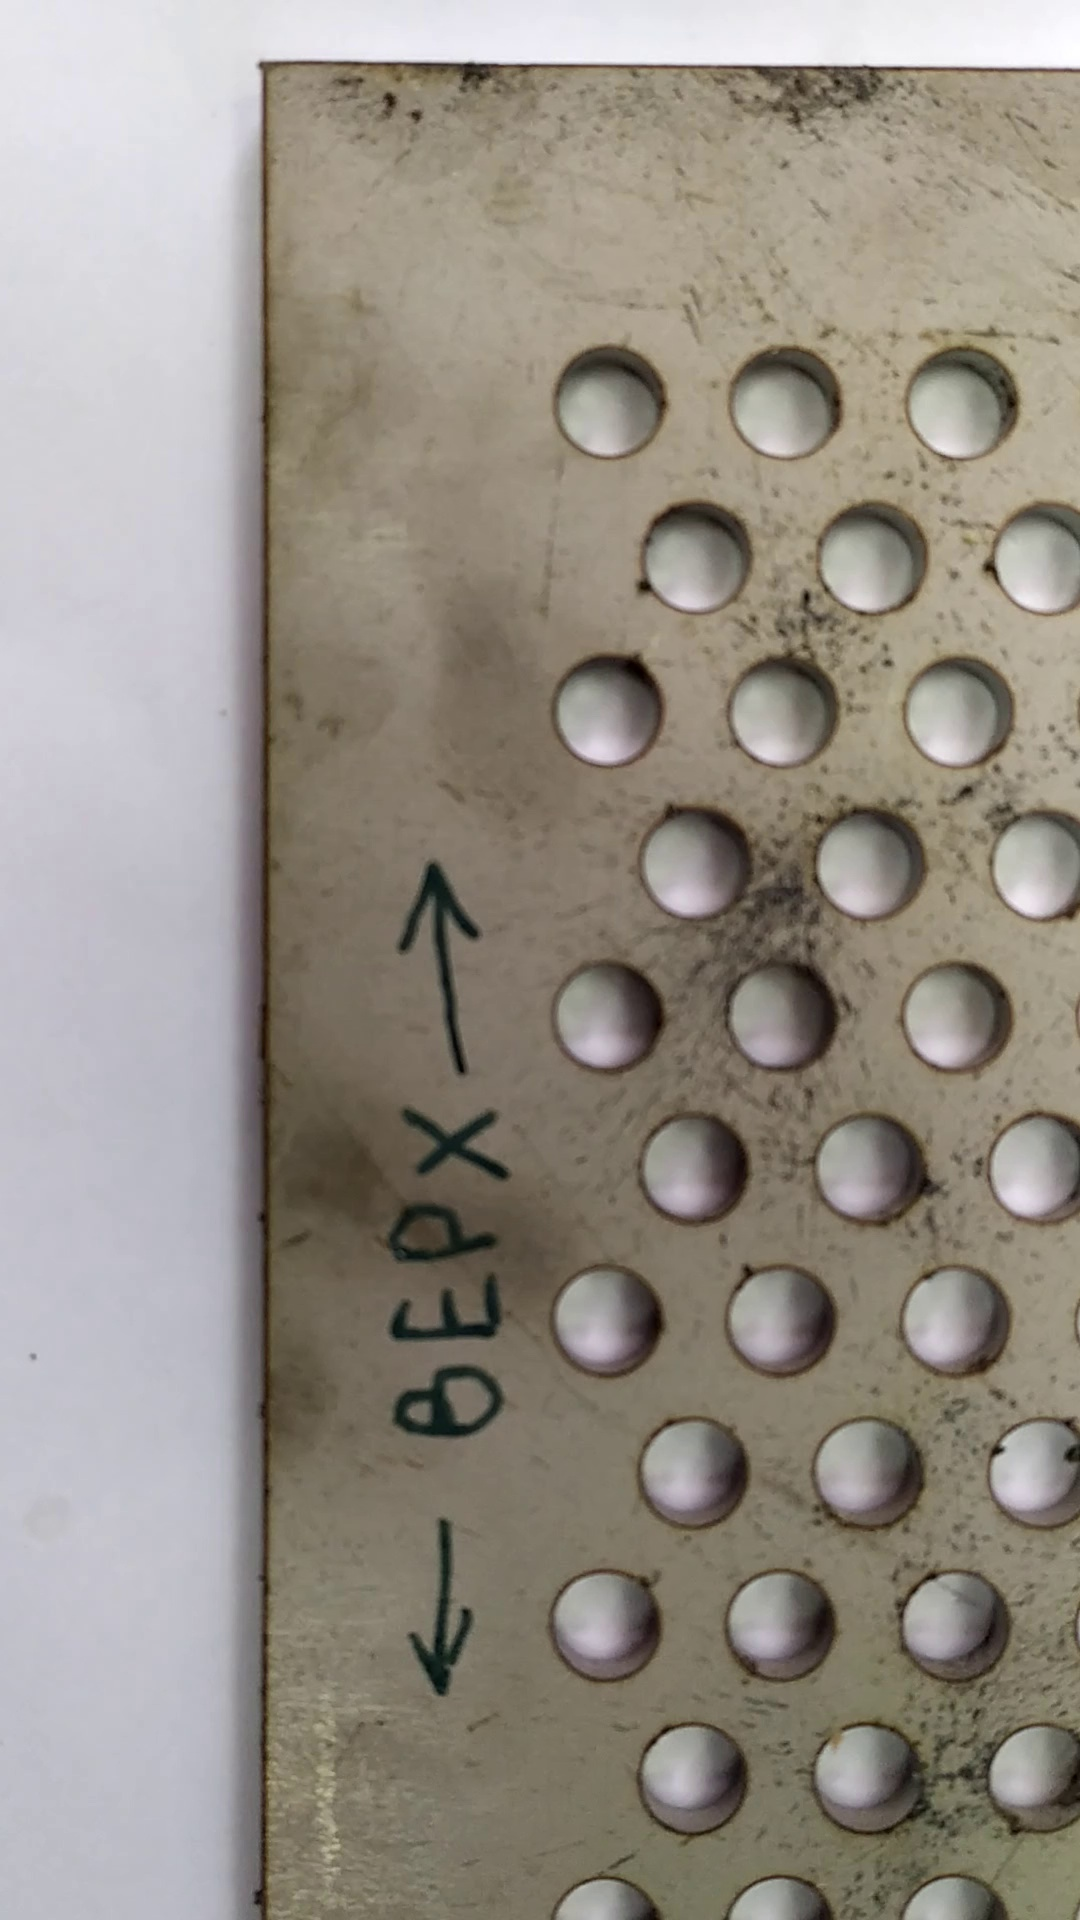Hole: (887, 326, 1033, 475), (616, 489, 767, 624), (796, 795, 940, 936), (530, 334, 679, 469), (716, 328, 858, 469), (885, 949, 1025, 1091), (618, 1716, 771, 1844), (535, 644, 680, 775), (716, 646, 855, 783), (620, 795, 761, 930), (624, 1105, 765, 1240), (881, 1564, 1030, 1691), (716, 1254, 857, 1387), (802, 1408, 938, 1544), (894, 644, 1033, 777), (624, 1408, 760, 1540), (708, 1564, 849, 1691), (717, 953, 851, 1087), (804, 1105, 936, 1240), (541, 1258, 675, 1389), (541, 1563, 679, 1689), (894, 1255, 1022, 1387), (545, 953, 671, 1087), (802, 1720, 936, 1844), (806, 495, 938, 620)
